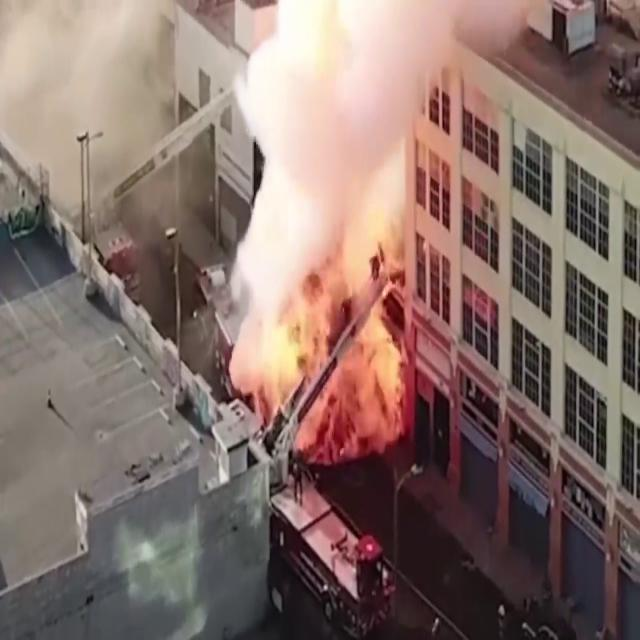Smoke: (226, 1, 416, 457), (0, 0, 218, 249)
